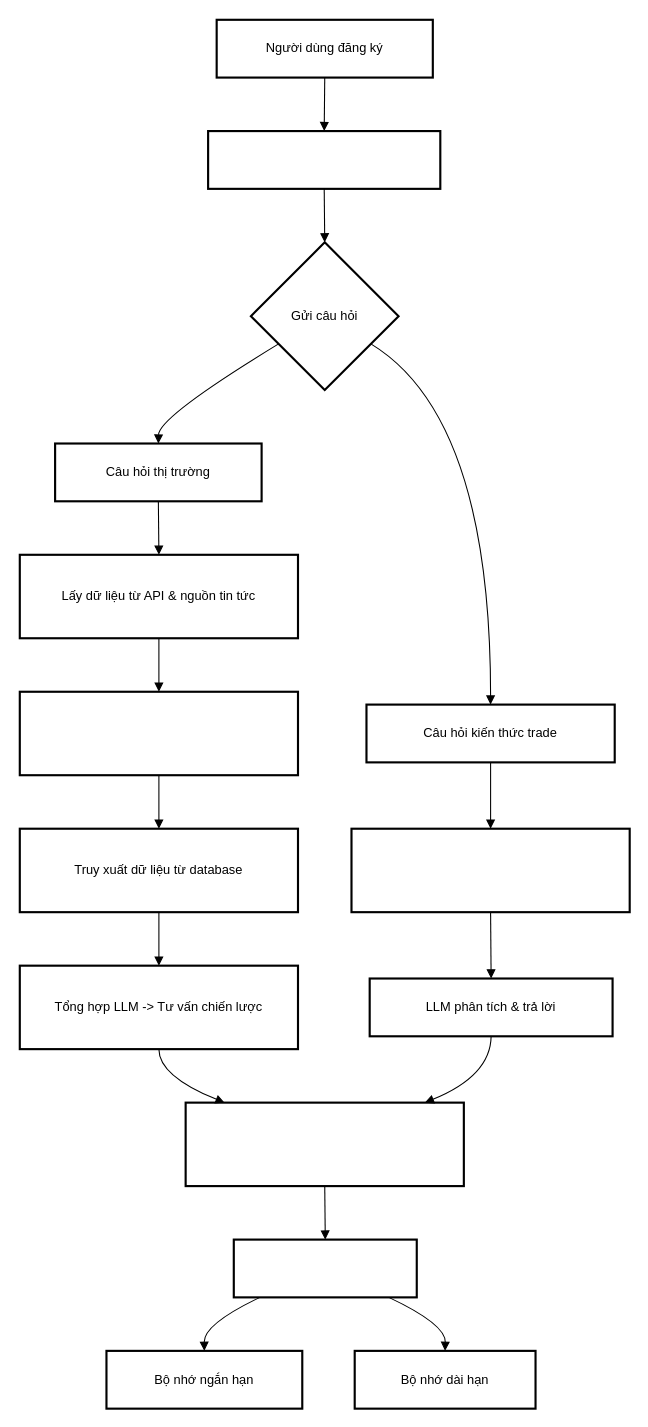
The diagram is 648 pixels wide and 1427 high, and some of its shapes have lost their labels. Here are the shapes that lost their labels. From the top down, the box of each, then its label:
(207, 129, 441, 189): Tạo hồ sơ người dùng
(18, 690, 299, 776): Mô hình Time Series dự đoán xu hướng
(350, 827, 630, 913): Truy xuất kiến thức từ DB & web
(184, 1101, 464, 1187): Gửi phản hồi đến người dùng
(232, 1238, 417, 1298): Quản lý bộ nhớ
